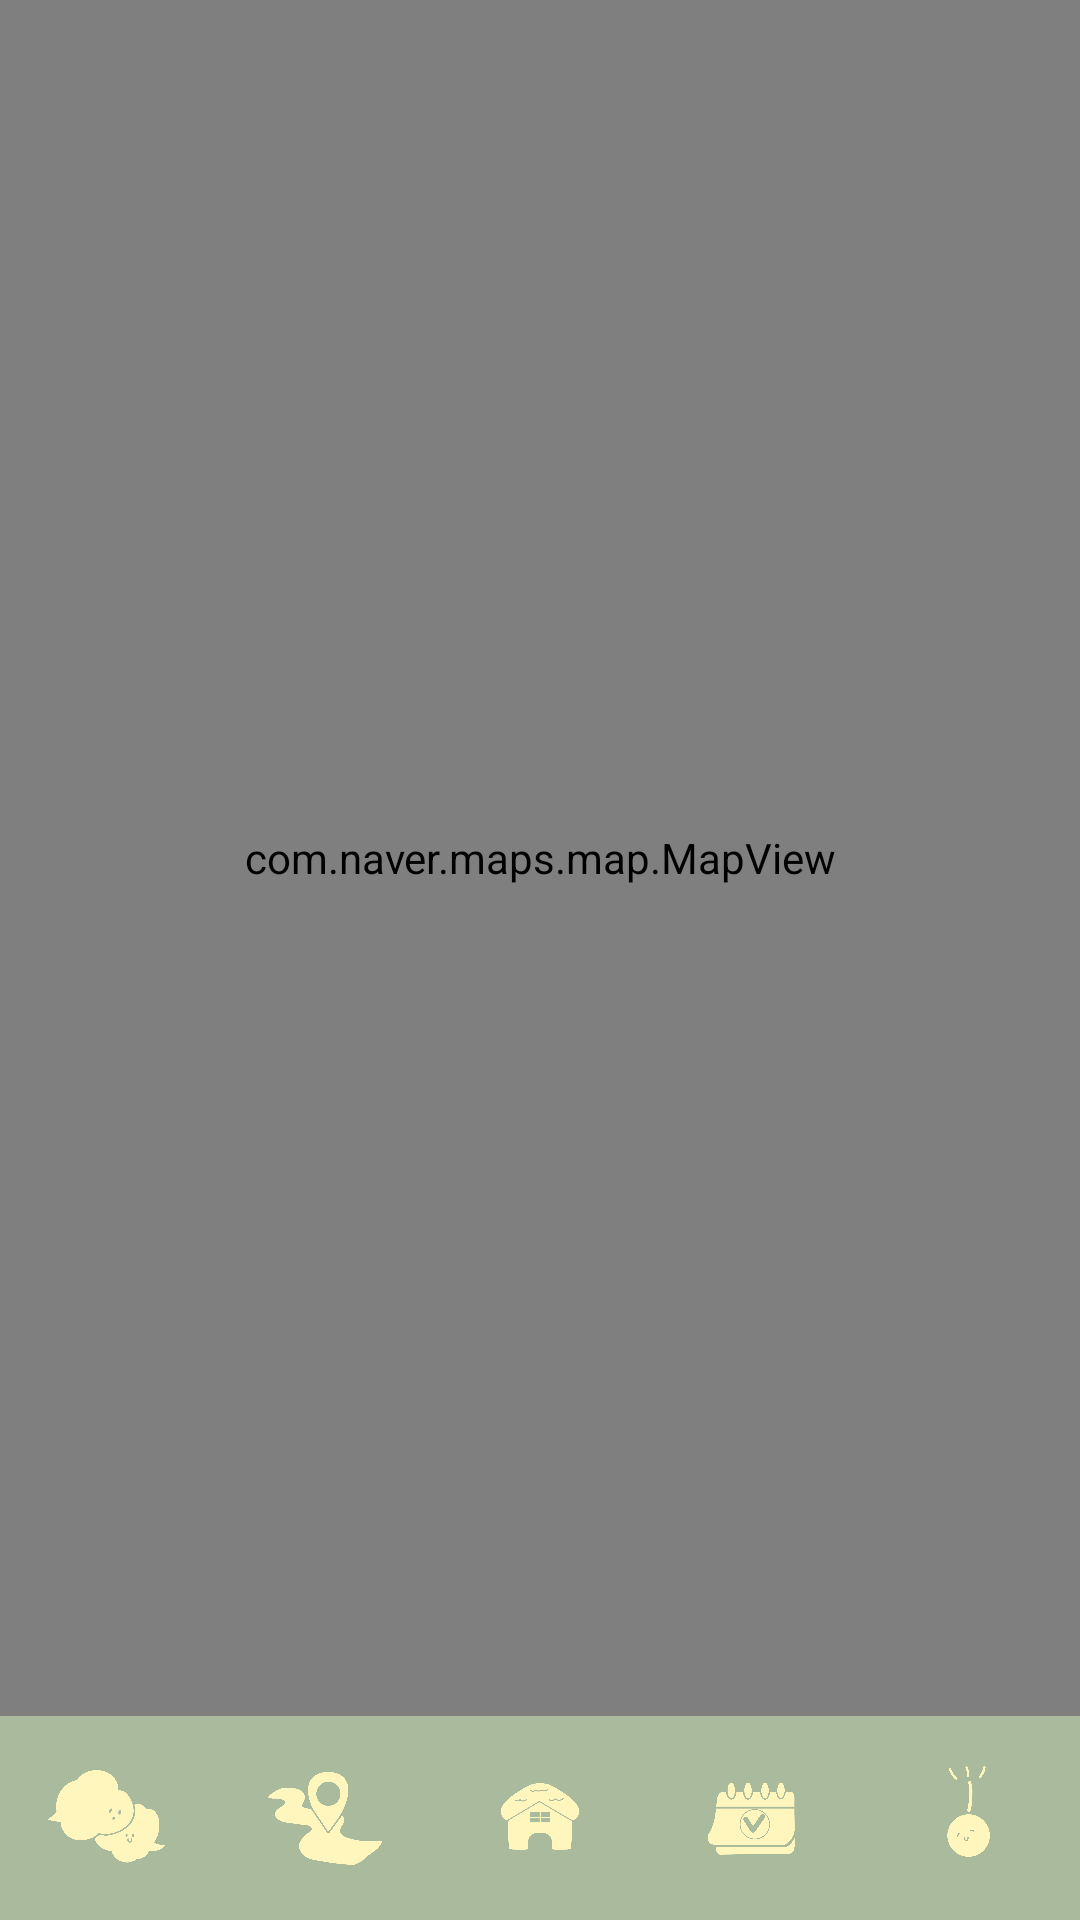

Icons on this 1080x1920 Android screen, each with its box as box=[x1, y1, x2, y2]:
calendar: box=[708, 1783, 795, 1855]
chatting: box=[48, 1770, 165, 1863]
home: box=[501, 1783, 579, 1850]
mypage: box=[947, 1766, 990, 1857]
